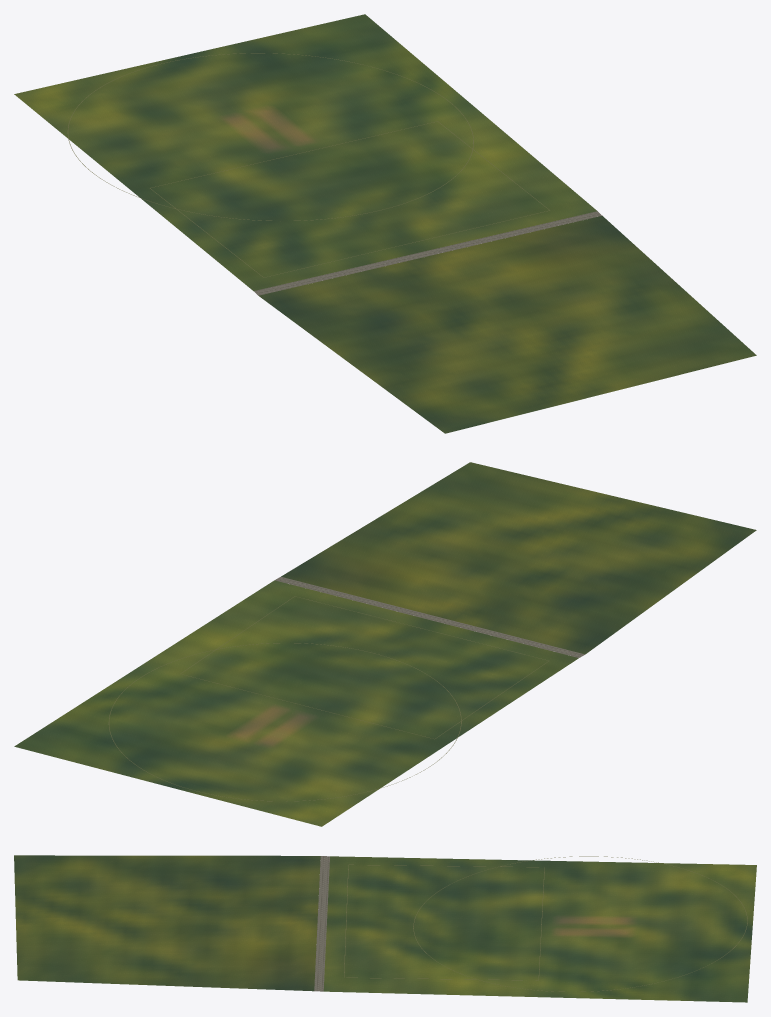
3 views of the same model, one above another, from view 1: azimuth 30°, elevation 25°; view 2: azimuth 150°, elevation 25°; view 3: azimuth 270°, elevation 25° (orthographic). The views are drawn at different scales.
Bounding box in the file's own units: 127 × 0.1906 × 272.
2 materials, 2 textured.
